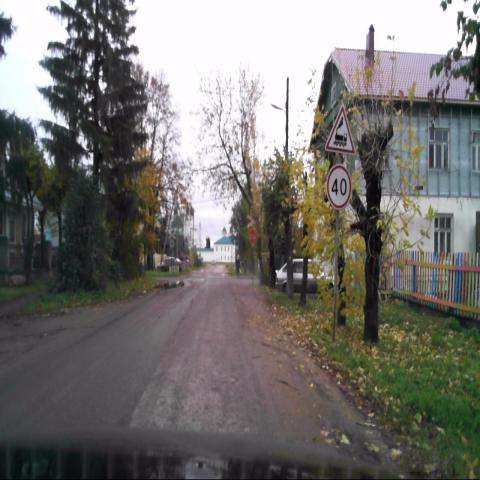1_2: (325, 103, 355, 156)
